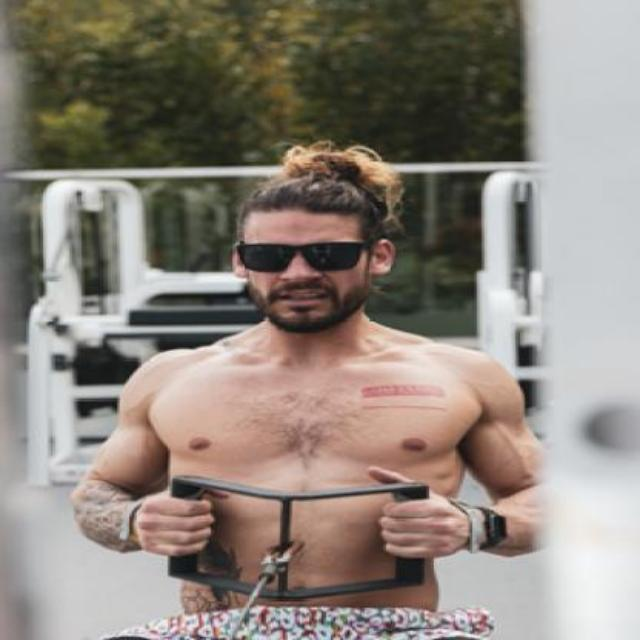glasses: (232, 242, 374, 272)
